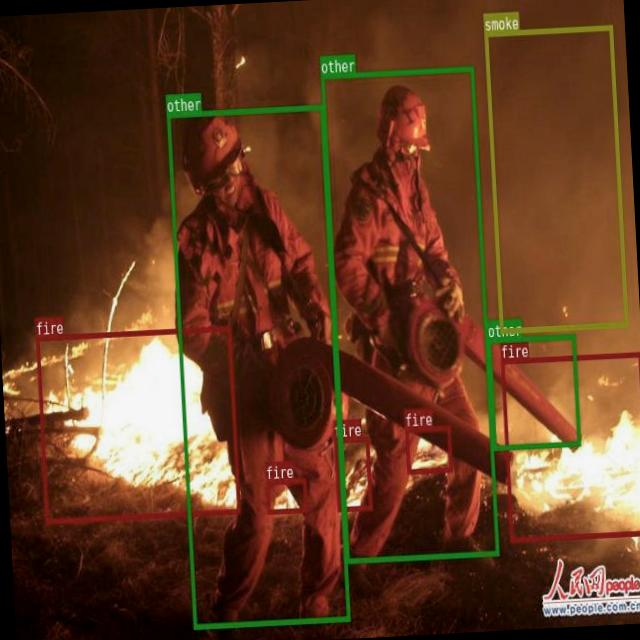fire: (35, 324, 240, 522), (501, 352, 640, 541), (333, 436, 372, 512), (405, 424, 452, 474), (265, 477, 307, 514)
smoke: (484, 25, 628, 332)
